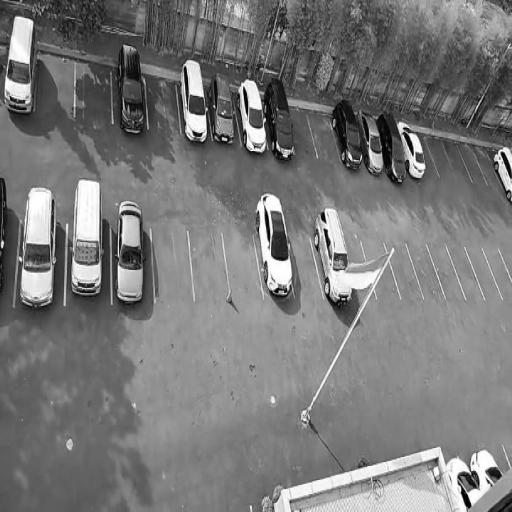Car: (308, 204, 359, 309), (17, 181, 57, 311), (251, 190, 297, 302), (69, 172, 106, 302), (112, 189, 148, 306), (2, 7, 39, 119), (113, 36, 147, 143), (261, 74, 299, 160), (232, 73, 271, 155), (326, 96, 366, 175), (176, 57, 210, 145), (374, 107, 412, 183), (205, 64, 238, 149), (445, 450, 485, 512), (395, 116, 430, 184), (464, 442, 506, 496), (355, 110, 388, 176), (488, 143, 512, 207)
Space Available: (150, 227, 195, 302), (187, 228, 231, 301), (34, 48, 74, 116), (223, 234, 264, 298), (360, 237, 399, 301), (74, 58, 112, 122), (383, 241, 423, 301), (287, 235, 324, 298), (406, 244, 445, 302), (427, 245, 466, 300), (145, 73, 181, 132), (344, 240, 377, 304), (464, 247, 503, 301), (446, 246, 484, 300), (307, 108, 341, 161), (482, 248, 512, 299), (289, 106, 318, 158), (424, 135, 455, 178), (441, 140, 472, 181), (457, 144, 486, 183), (471, 146, 498, 184)
